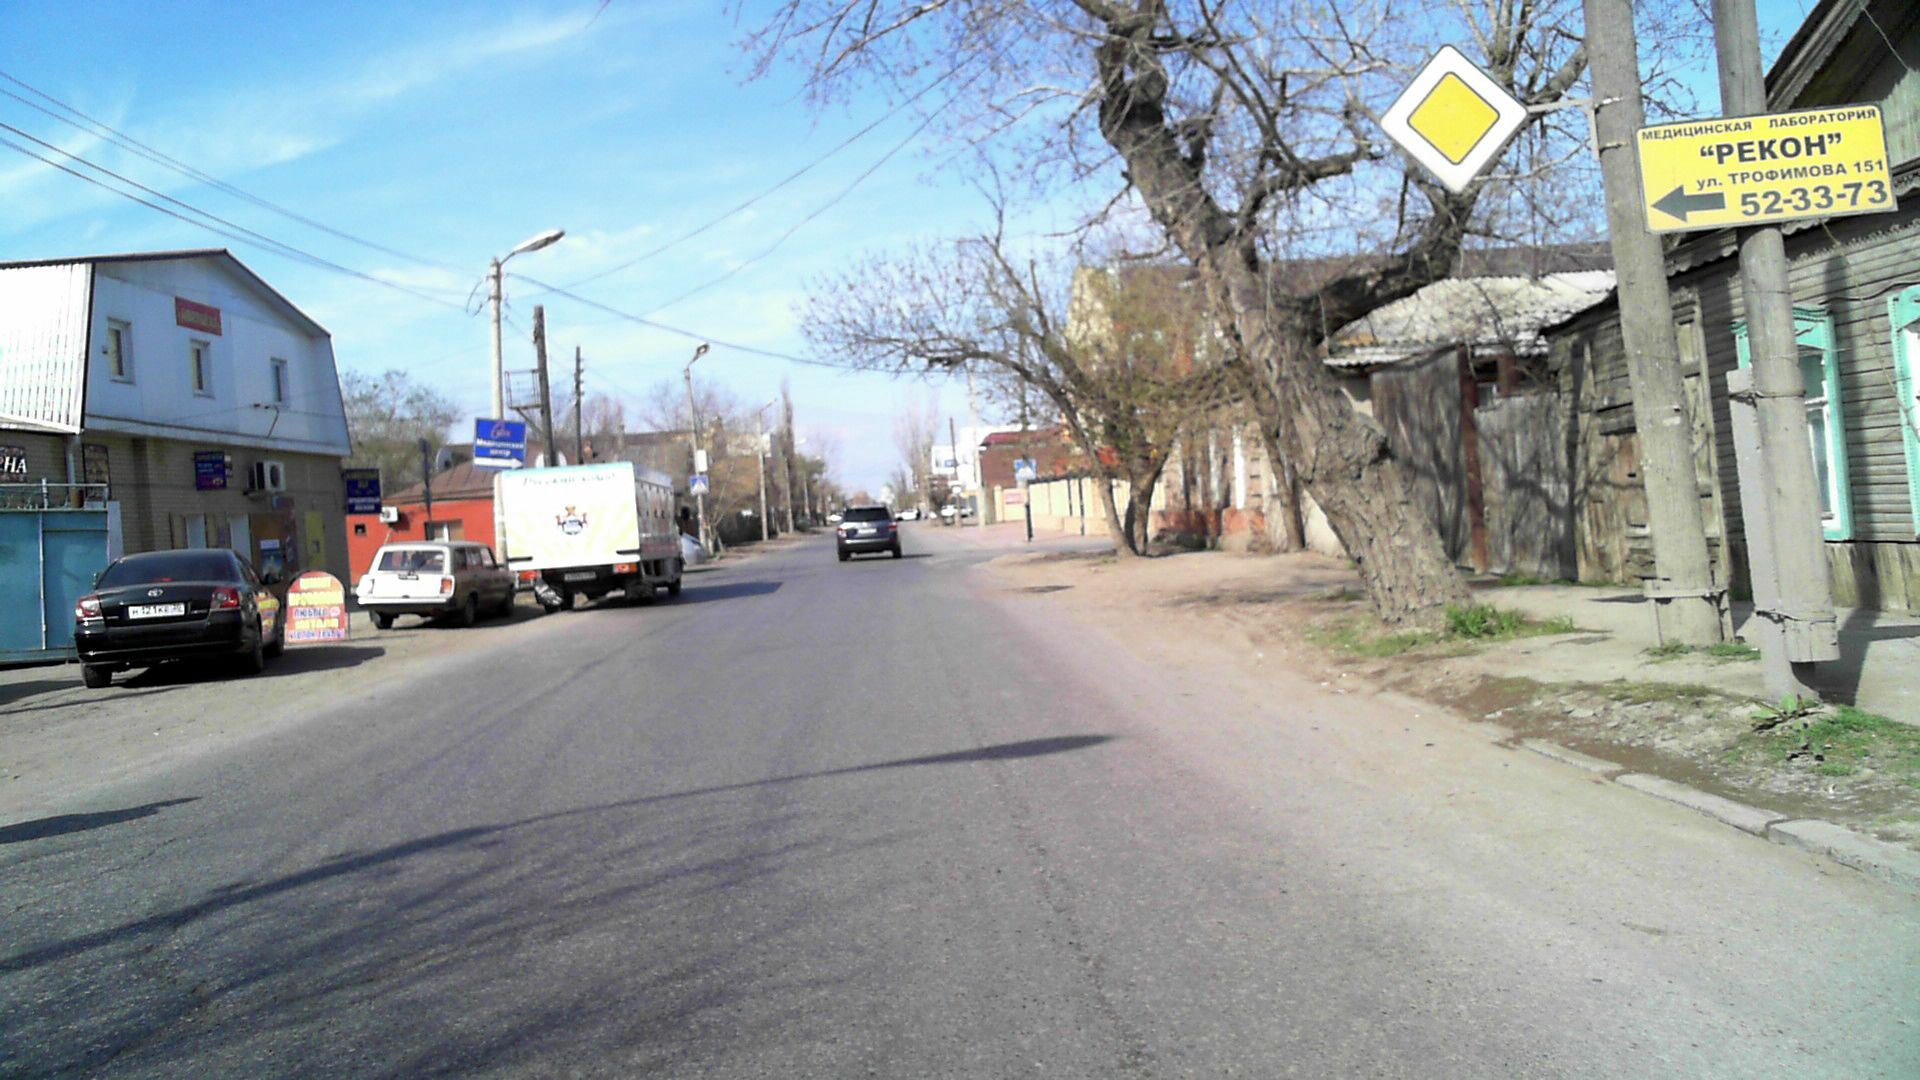Main Road: (1379, 44, 1527, 195)
